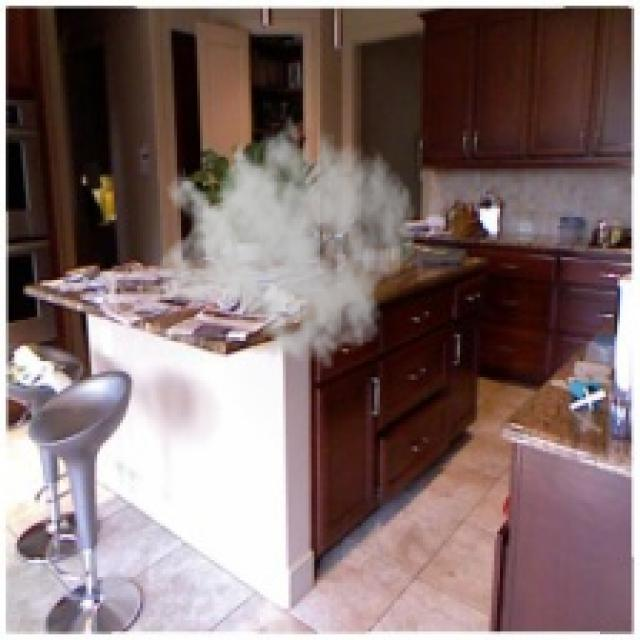smoke: (154, 100, 417, 371)
